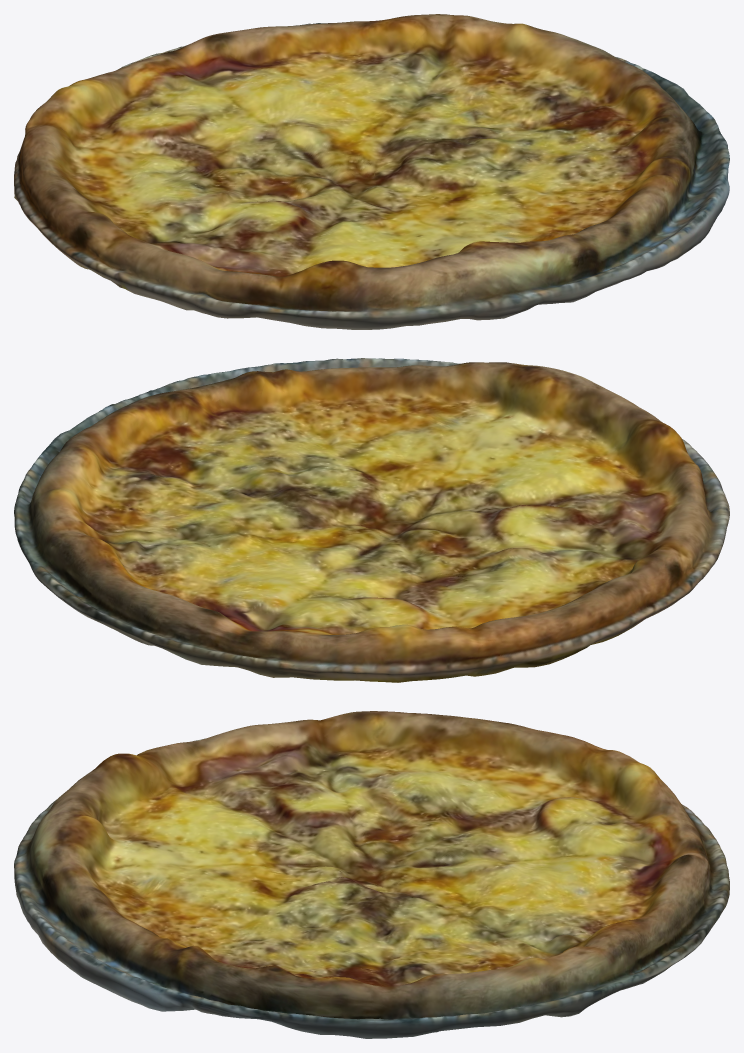
File: calabrese.glb
3 renders of one model, top to bottom at view 1: azimuth 30°, elevation 25°; view 2: azimuth 150°, elevation 25°; view 3: azimuth 270°, elevation 25°, orthographic.
Parts seen in each view (by area): view 1: ObjectCapture; view 2: ObjectCapture; view 3: ObjectCapture.
Boxes of the visible parts, x1=… form: ObjectCapture: x1=14, y1=14, x2=729, y2=329; ObjectCapture: x1=14, y1=358, x2=729, y2=682; ObjectCapture: x1=14, y1=711, x2=729, y2=1038.
Size of the model in its own units: 0.7218 by 0.0844 by 0.715.
1 material, 1 textured.
